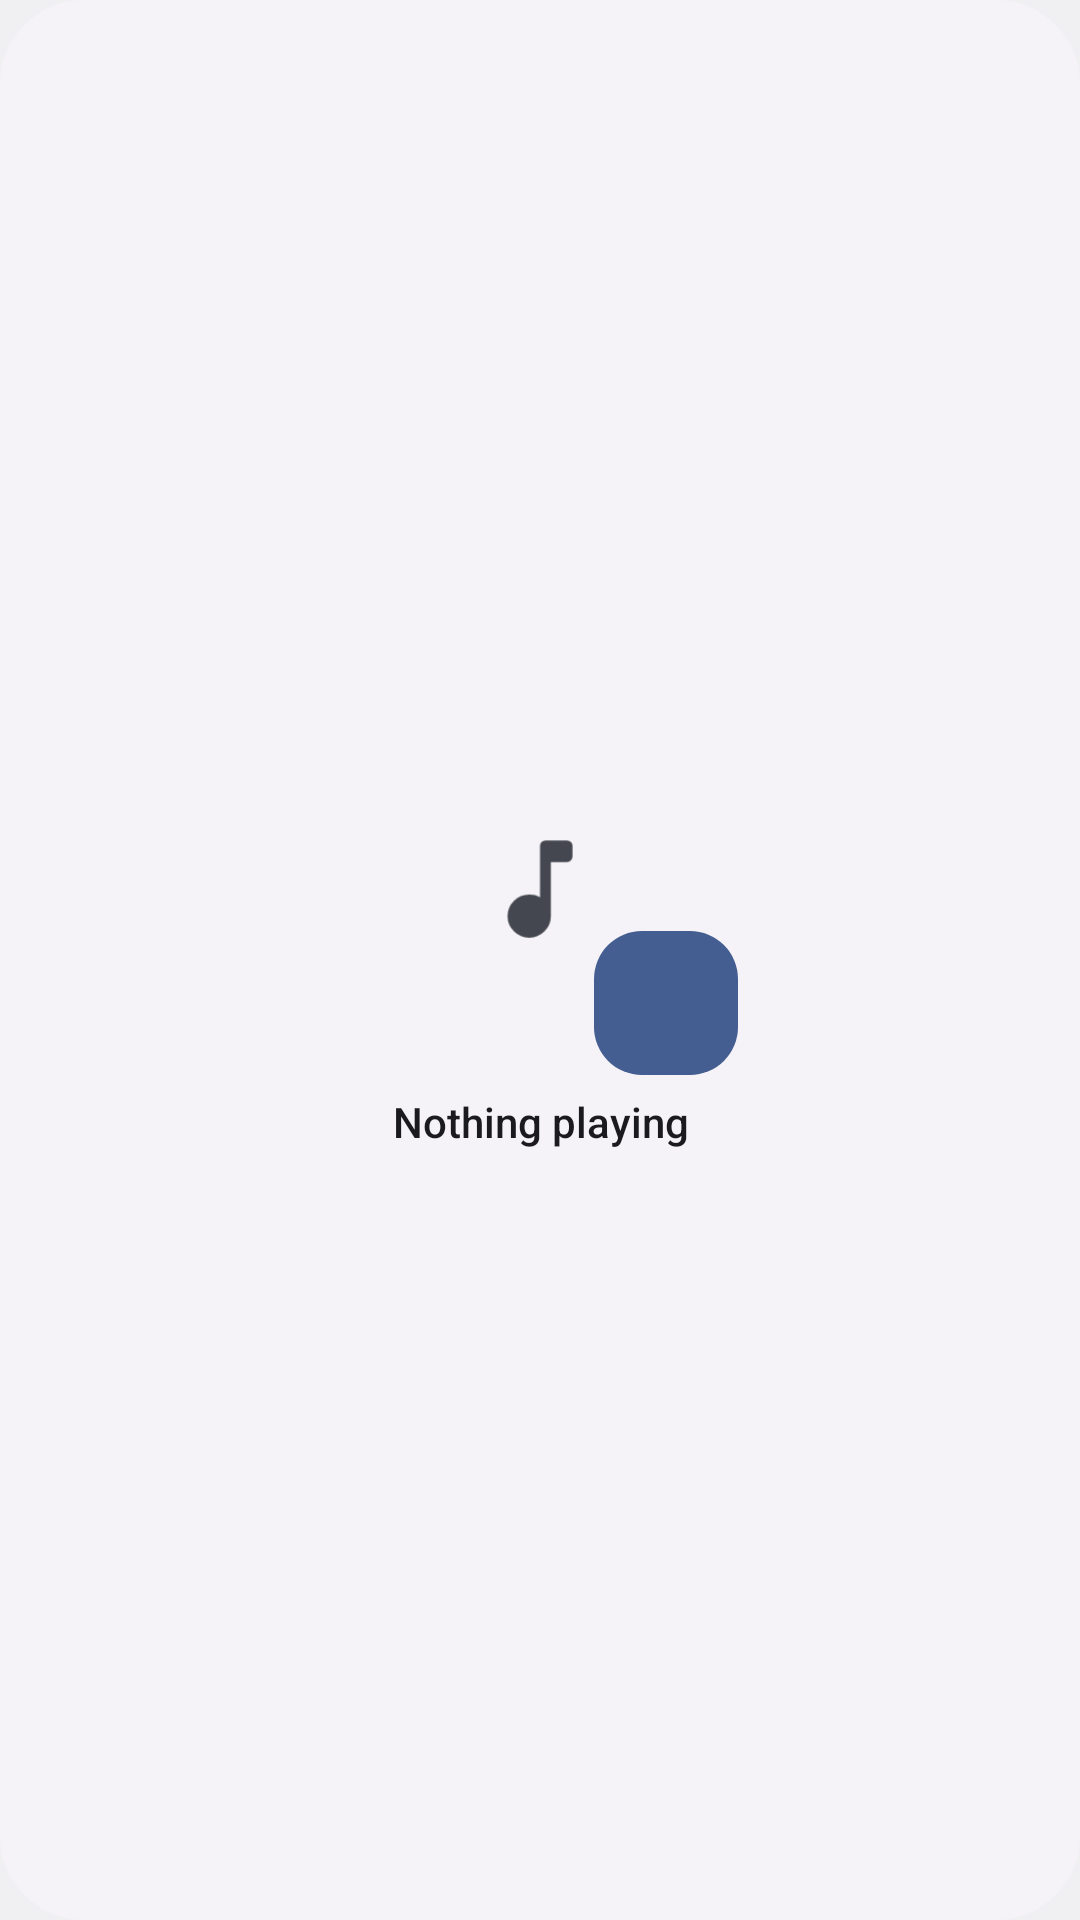

Screen size 1080 x 1920. Icon name, then its center in pixels as (x=x, y=y):
widget circle note: (x=607, y=948)
